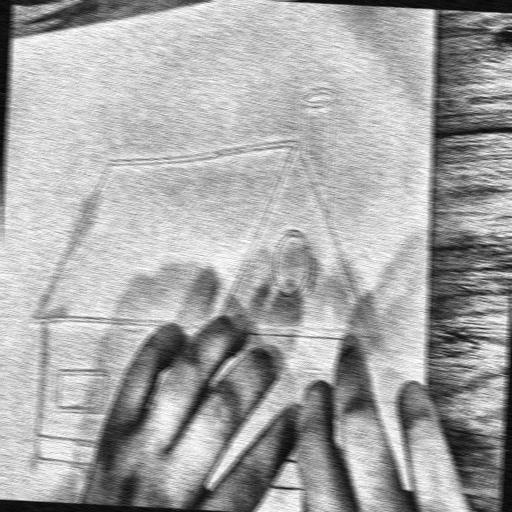house: (11, 55, 398, 506)
